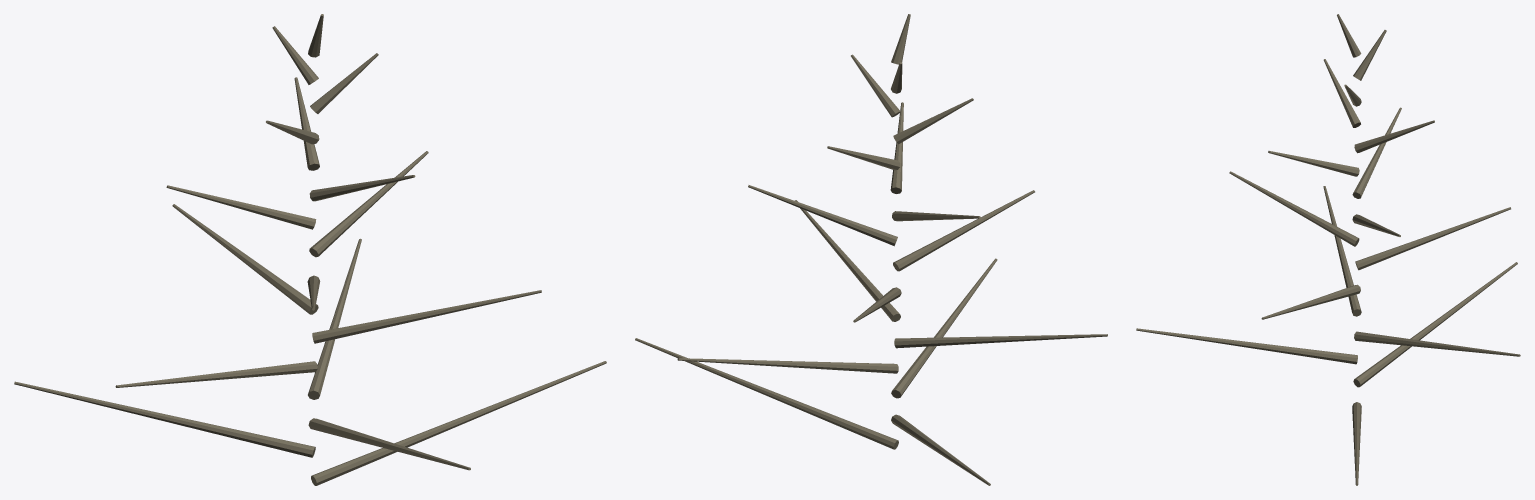
File: teaching3-vegetation-05-near.glb
3 views of the same model, side by side, from view 1: azimuth 30°, elevation 25°; view 2: azimuth 150°, elevation 25°; view 3: azimuth 270°, elevation 25° (orthographic). The views are drawn at different scales.
Visible parts, largest first — view 1: vegetation cedar branches; view 2: vegetation cedar branches; view 3: vegetation cedar branches.
Boxes of the visible parts, x1,y1,x2,y2 form: vegetation cedar branches: (14,14,606,485); vegetation cedar branches: (635,14,1107,485); vegetation cedar branches: (1136,14,1520,485).
Size of the model in its own units: 8.98 by 8.1 by 7.13.
